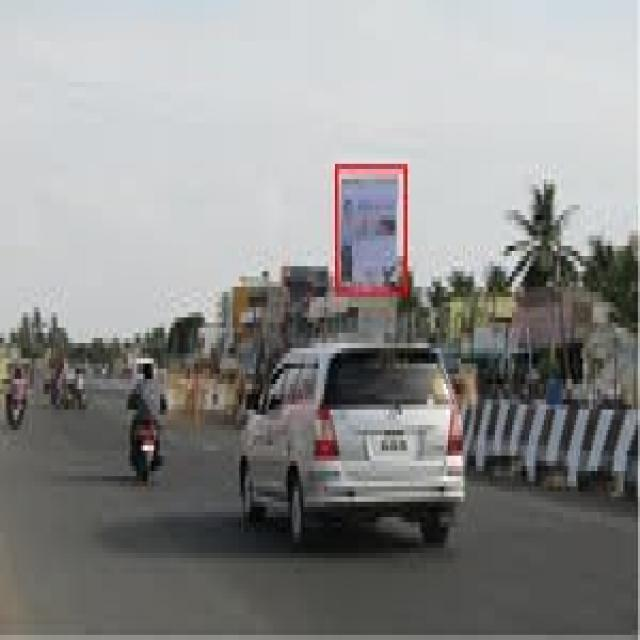Werbetafel frei: (342, 178, 399, 285)
